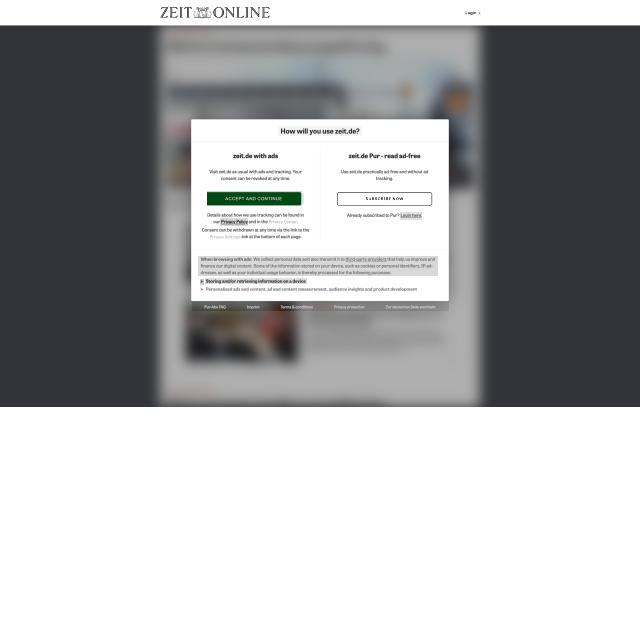CheckBox: (337, 191, 432, 207), (208, 191, 304, 206), (463, 8, 484, 18)
Input field: (198, 256, 438, 276), (205, 278, 307, 284)
badge: (192, 301, 449, 311)
carousel: (200, 279, 204, 285), (478, 10, 481, 16)
data feed: (226, 196, 286, 202), (209, 233, 241, 241), (365, 196, 405, 202), (220, 218, 248, 226), (400, 212, 422, 220), (268, 219, 297, 225)
date picker: (158, 2, 272, 21)
image: (278, 126, 362, 136)
